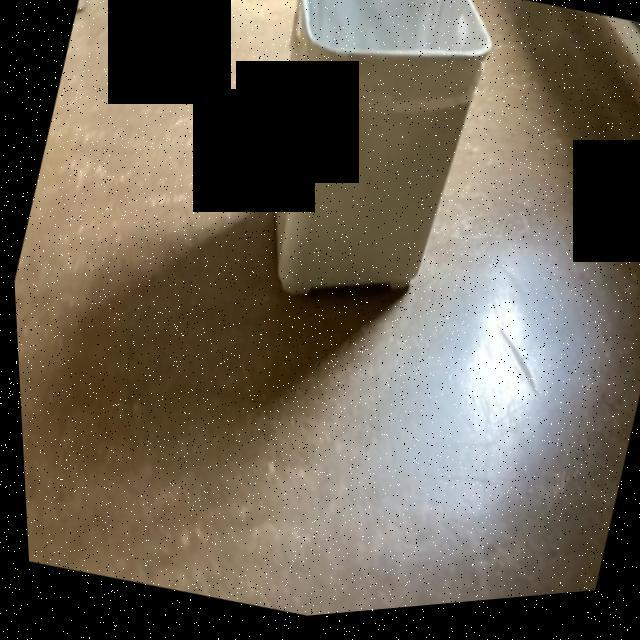bin: (189, 0, 538, 379)
